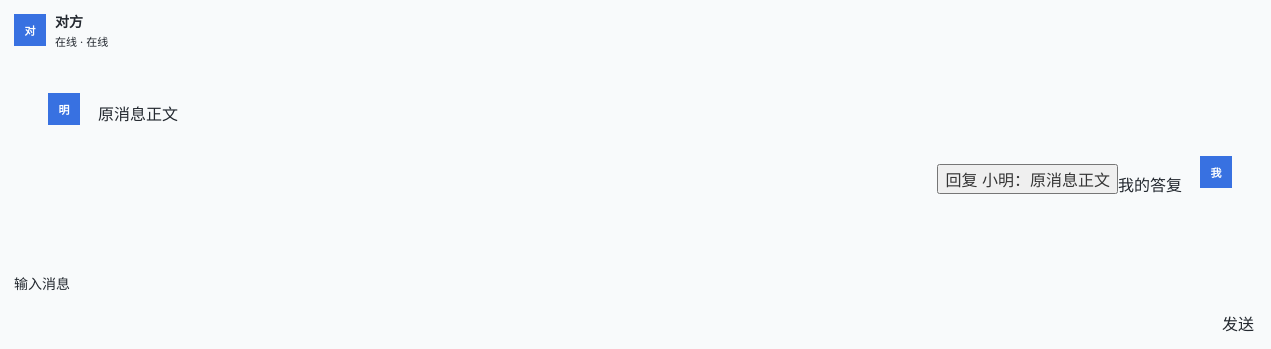
reply interactions › copies the selected body independently of its rendered quote
This screenshot has width=1271, height=349.
Right-click the text "我的答复" at (1150, 185), box [1118, 175, 1182, 195]
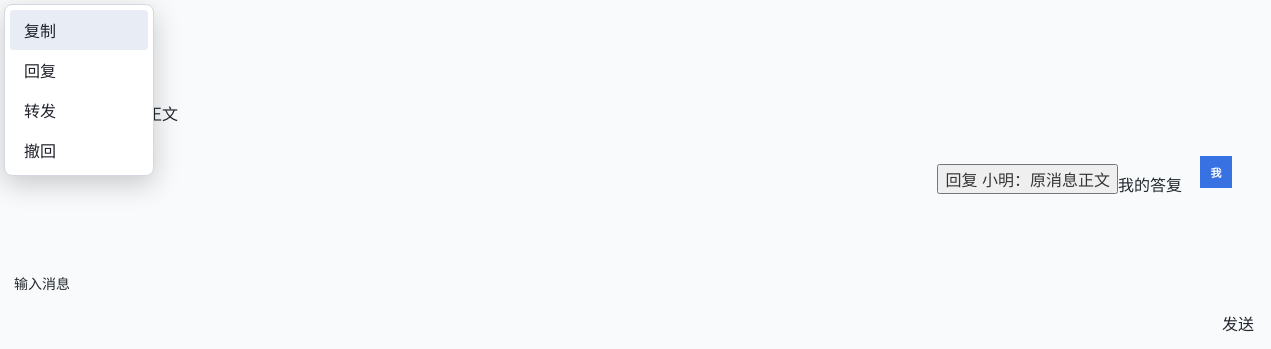
Click the menu item "复制" at (79, 30), box [10, 10, 148, 50]
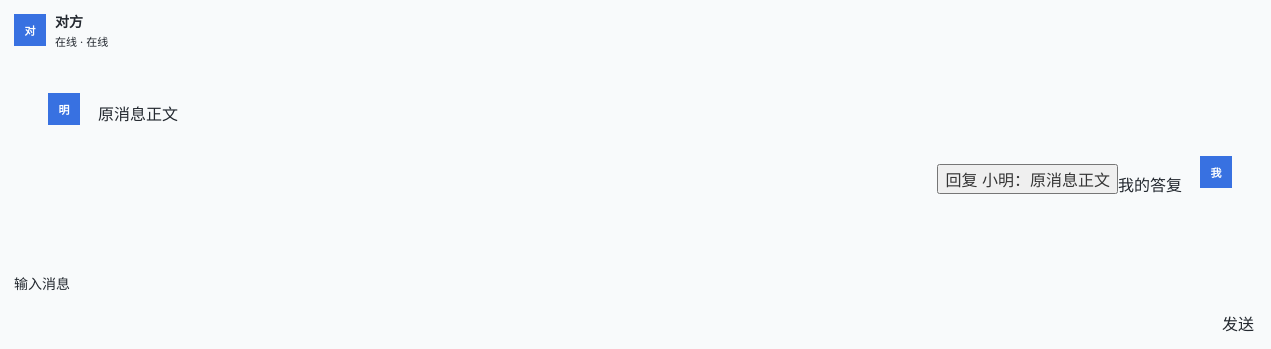
Check: the menu is gone
